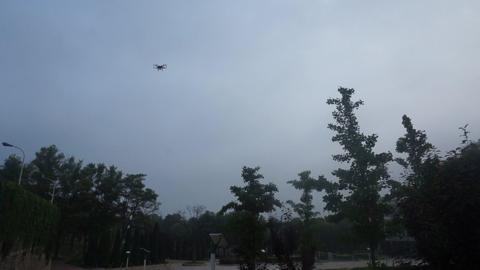UAV: (153, 64, 168, 72)
